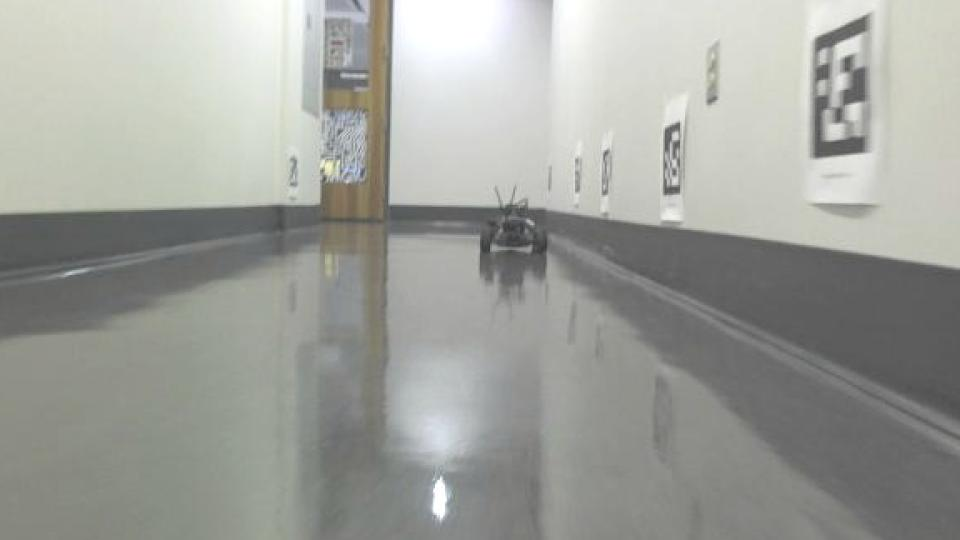car: (477, 182, 553, 262)
